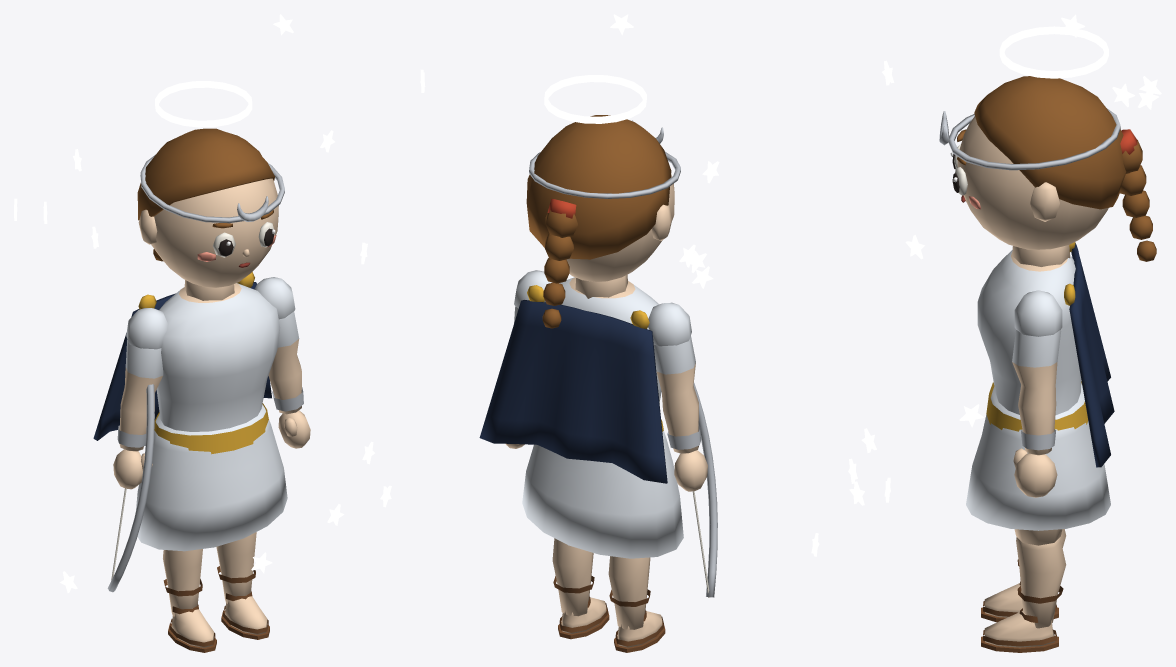
The model's file is artemis.glb.
The picture shows the model from 3 angles, left to right: view 1: azimuth 30°, elevation 25°; view 2: azimuth 150°, elevation 25°; view 3: azimuth 270°, elevation 25°; orthographic projection. The views are drawn at different scales.
Visible parts, largest first — view 1: rumpf, huefte, kopf, haare, armL, armR, knieL, knieR, umhang, itemL, vfx_halo, kopfschmuck (+2 smaller); view 2: umhang, haare, huefte, armL, knieL, knieR, kopf, rumpf, itemL, vfx_halo, kopfschmuck, armR (+1 smaller); view 3: haare, huefte, kopf, rumpf, armR, knieR, umhang, vfx_halo, kopfschmuck, knieL, vfx_sterne_0, vfx_sterne_2 (+2 smaller).
Part boxes in pixels (x1,y1,x2,y2): rumpf: [154, 283, 280, 454]; huefte: [135, 404, 287, 551]; kopf: [138, 178, 278, 300]; haare: [137, 128, 274, 261]; armL: [113, 308, 167, 489]; armR: [254, 277, 310, 448]; knieL: [163, 549, 216, 652]; knieR: [216, 532, 269, 639]; umhang: [93, 272, 271, 440]; itemL: [107, 384, 154, 592]; vfx_halo: [155, 81, 252, 127]; kopfschmuck: [140, 154, 284, 223]; umhang: [479, 285, 667, 483]; haare: [526, 115, 671, 328]; huefte: [522, 430, 683, 558]; armL: [648, 302, 707, 491]; knieL: [608, 556, 665, 652]; knieR: [552, 538, 609, 639]; kopf: [544, 174, 674, 298]; rumpf: [544, 277, 663, 431]; itemL: [692, 383, 717, 597]; vfx_halo: [544, 75, 646, 123]; kopfschmuck: [529, 120, 680, 198]; armR: [505, 270, 552, 448]; haare: [974, 76, 1156, 261]; huefte: [966, 383, 1110, 530]; kopf: [957, 116, 1108, 266]; rumpf: [977, 250, 1088, 431]; armR: [1012, 290, 1062, 497]; knieR: [981, 537, 1066, 652]; umhang: [1064, 242, 1114, 467]; vfx_halo: [999, 26, 1108, 78]; kopfschmuck: [939, 108, 1120, 170]; knieL: [981, 529, 1066, 622]; vfx_sterne_0: [861, 14, 1084, 452]; vfx_sterne_2: [1112, 76, 1161, 109].
Size of the model in its own units: 1.48 by 2.54 by 1.19.
